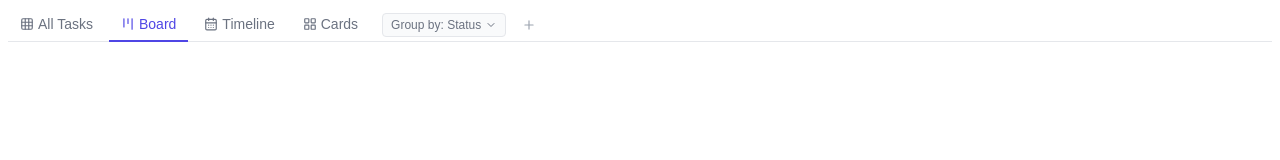
it: ViewSwitcher › opens kanban field picker dropdown
The image size is (1280, 160).
Click the button with aria-label "Select group field": coordinates (444, 24) [382,12,506,36]
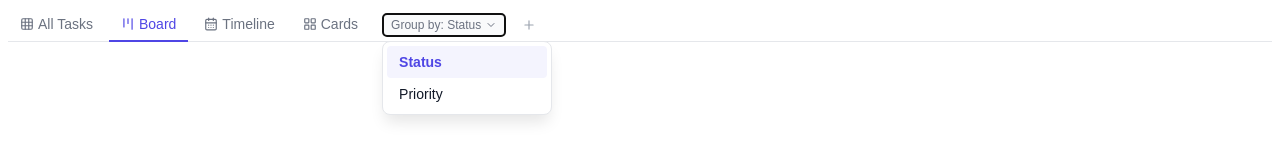
Check: the button "Priority" is shown, box [387,78,547,110]
